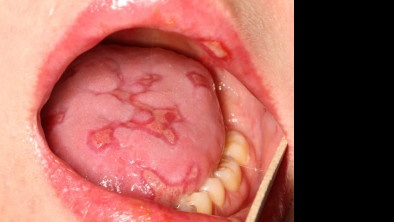SJS-TEN: (70, 48, 199, 176), (133, 157, 205, 215), (186, 19, 245, 76), (178, 61, 220, 101), (38, 104, 73, 146), (56, 61, 84, 88)
